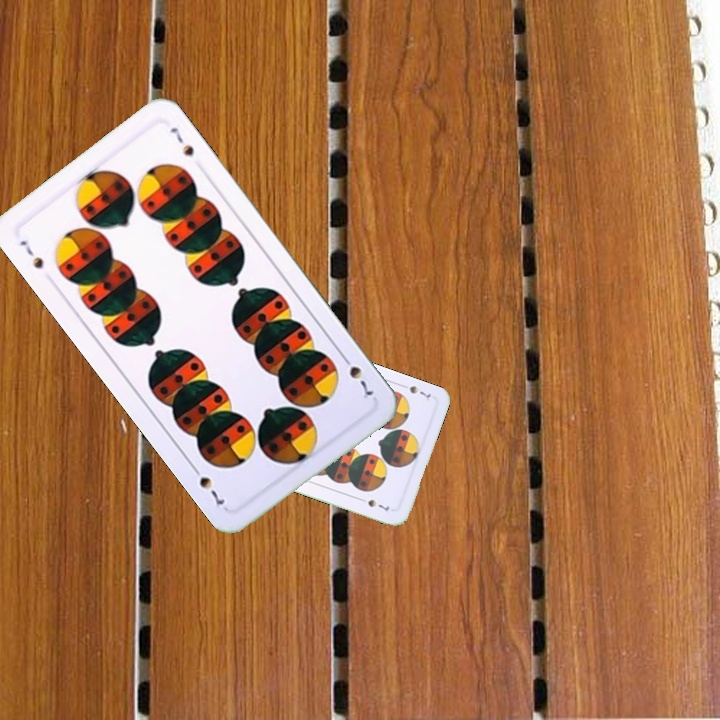S7: (337, 350, 376, 401), (15, 236, 46, 272), (405, 381, 433, 401)
